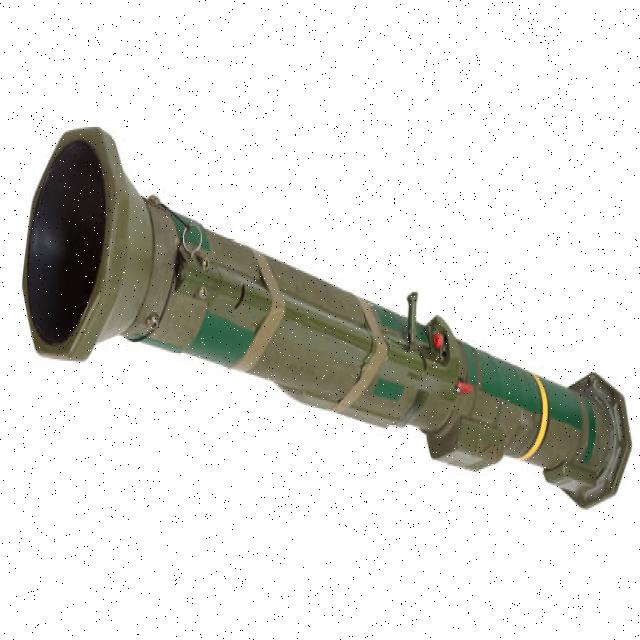bazooka: (11, 111, 639, 514)
